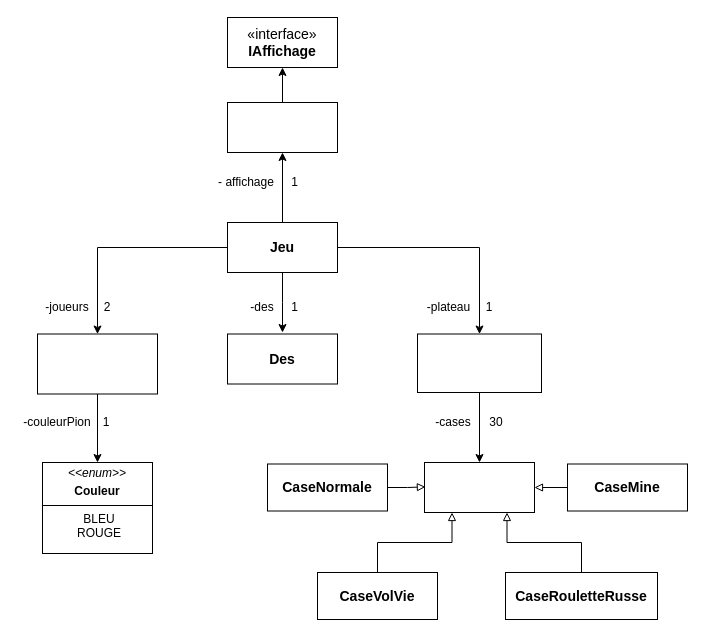
This 705x637 diagram has some shape labels left out. Here are the shapes that lost their labels. From the top down, the box of each, then its label:
(226, 102, 338, 152): Affichage
(36, 333, 158, 394): Joueur
(416, 333, 542, 392): Plateau
(424, 462, 534, 512): <<asbstract>> Case
